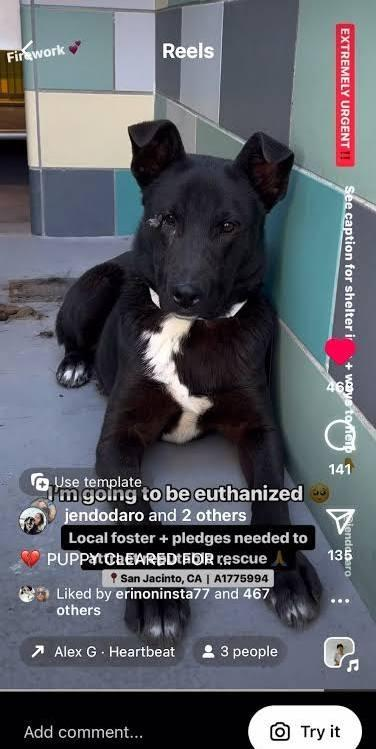adult_dog: (50, 118, 324, 648)
